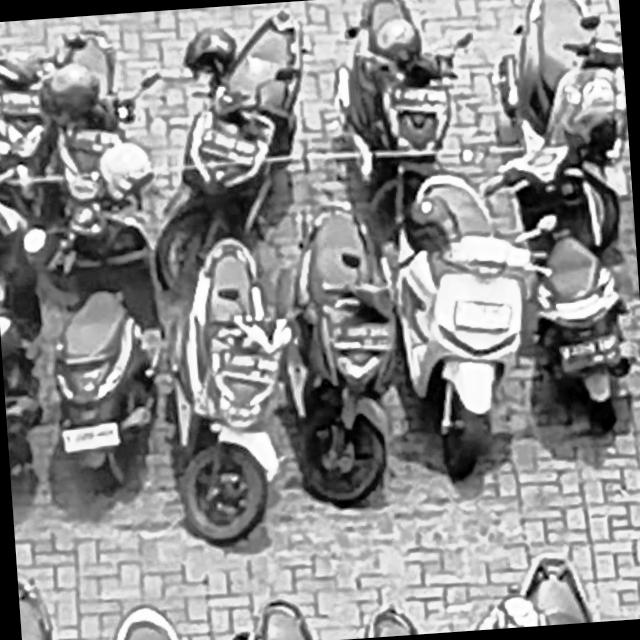motor: (112, 0, 336, 286), (387, 161, 538, 488), (150, 226, 298, 558), (42, 172, 172, 508), (278, 190, 412, 510), (494, 138, 640, 427), (479, 0, 635, 257), (316, 0, 478, 245), (0, 161, 57, 494), (466, 541, 632, 630), (0, 18, 54, 226)
